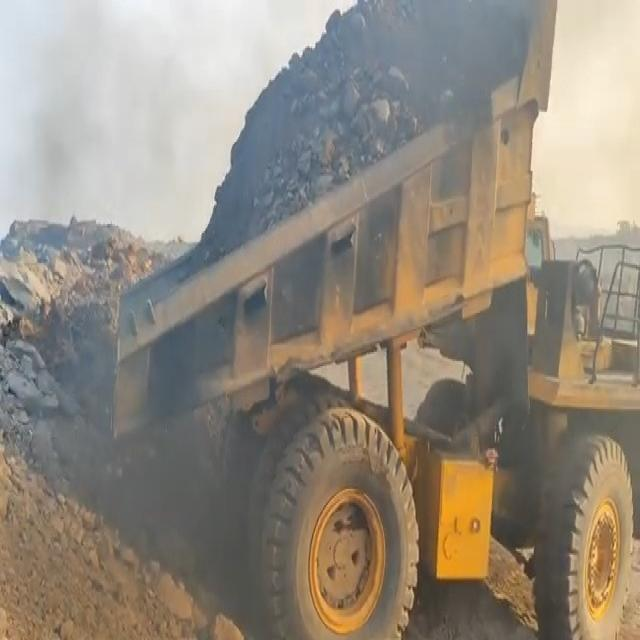dump_truck: (116, 2, 640, 640)
